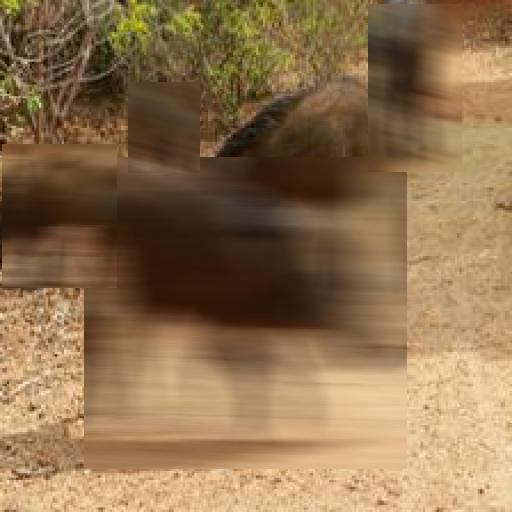Pig: (84, 158, 407, 470), (2, 144, 117, 288), (368, 4, 462, 172), (128, 82, 200, 173)
